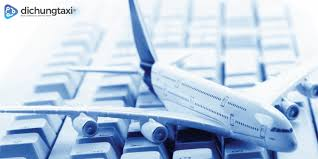maybay_dansu: (47, 24, 318, 153)
